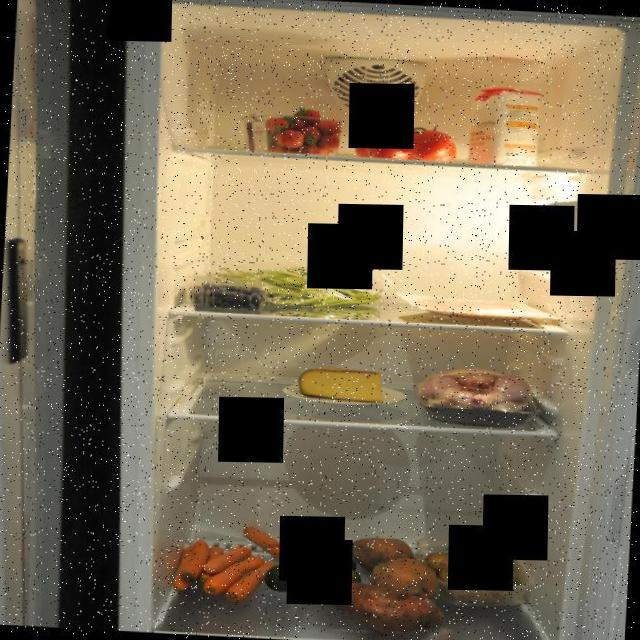Carne cerdo: (397, 290, 561, 326)
Carne pollo: (412, 364, 543, 428)
Patata: (424, 538, 532, 604)
Queso: (293, 361, 385, 406)
Tomate: (352, 118, 458, 166)
Zanahoria: (167, 520, 290, 604)
